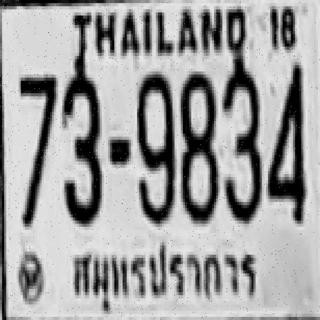N03: (61, 68, 101, 224), (222, 59, 260, 220)
N04: (266, 62, 304, 220)
N07: (18, 73, 57, 225)
N08: (179, 68, 216, 220)
N09: (136, 72, 174, 220)
P57: (62, 232, 267, 320)
